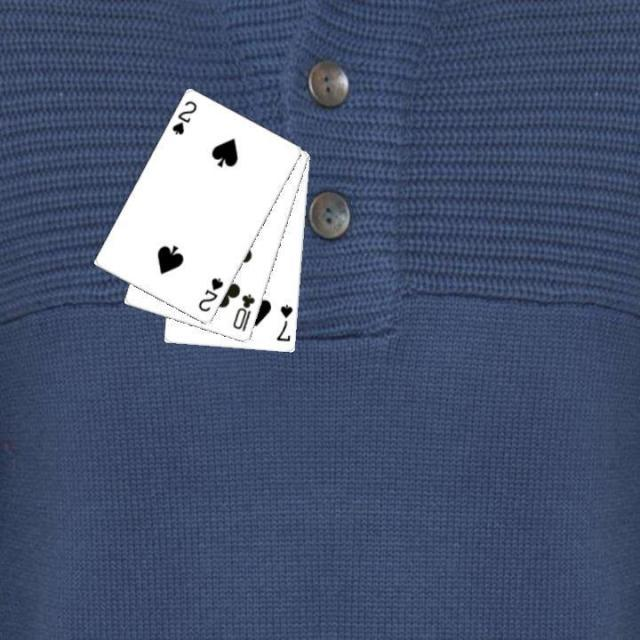10C: (229, 290, 257, 333)
2S: (168, 97, 199, 137), (195, 274, 225, 314)
7S: (272, 301, 294, 344)
